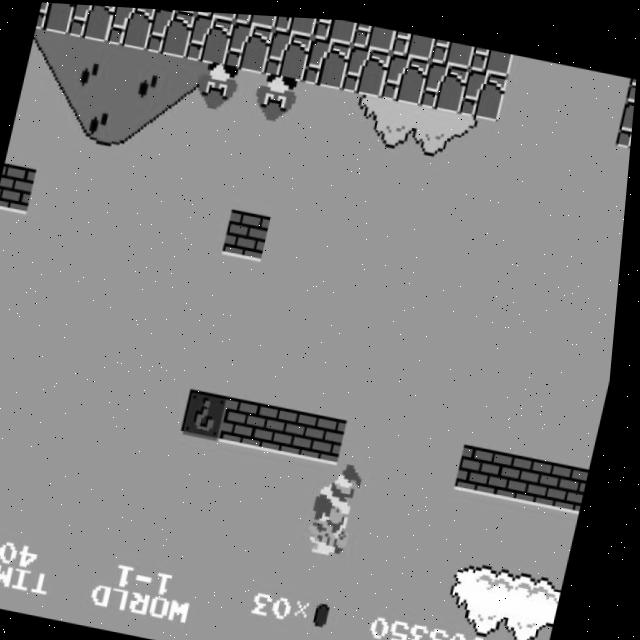1- brick_block: (225, 206, 276, 259), (540, 453, 591, 505), (501, 446, 552, 498), (461, 438, 512, 490), (305, 409, 356, 461), (265, 401, 316, 453), (226, 394, 277, 446), (0, 163, 40, 215), (581, 460, 597, 507)
13- mystery_block: (187, 386, 238, 438)
17- undestructible_block: (420, 55, 471, 109), (263, 26, 314, 79), (303, 33, 353, 87), (460, 63, 510, 116), (381, 48, 431, 101), (342, 41, 392, 94), (224, 18, 274, 71), (185, 11, 235, 64), (146, 7, 196, 56), (106, 5, 156, 49), (67, 3, 117, 41), (351, 18, 397, 49), (469, 41, 515, 71), (430, 34, 476, 64), (390, 26, 436, 56), (36, 2, 77, 35), (311, 15, 357, 41), (616, 92, 636, 144), (273, 13, 318, 34), (233, 11, 278, 26), (194, 9, 239, 19), (625, 70, 637, 99)
4- fire_mario: (312, 455, 375, 556)
8- goomba: (193, 56, 246, 114), (251, 67, 304, 124)
